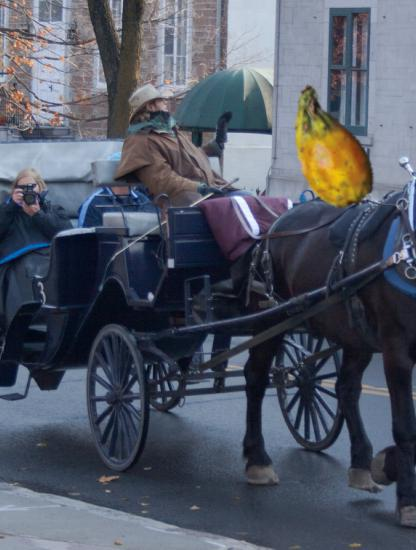Cactus: (262, 82, 394, 214)
